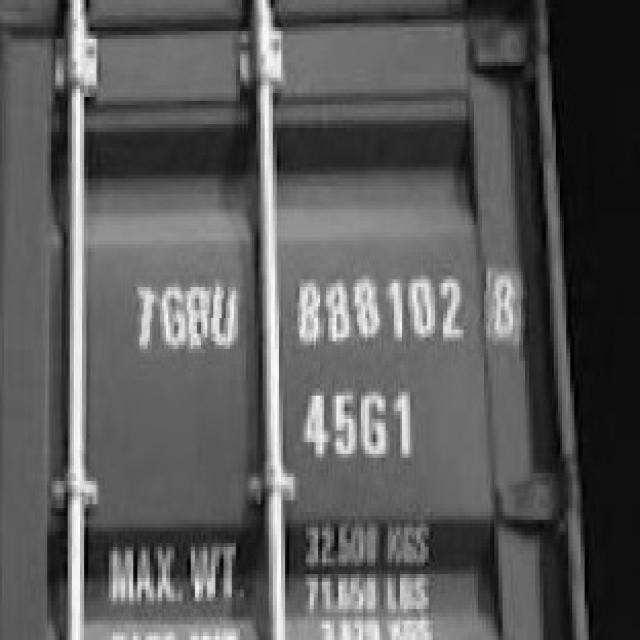dv: (477, 255, 528, 355)
owner: (131, 258, 248, 368)
serial: (283, 255, 466, 357)
size: (296, 377, 424, 472)
